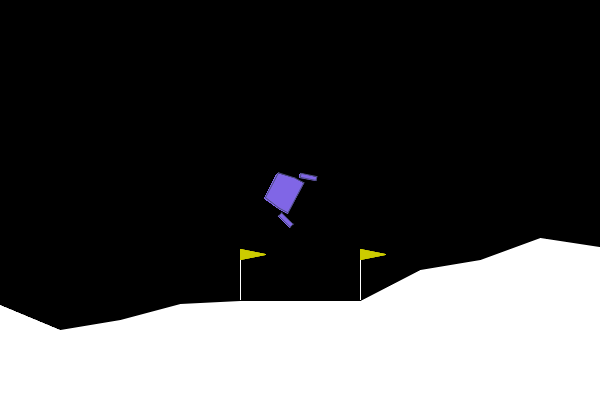lander: (256, 158, 319, 230)
